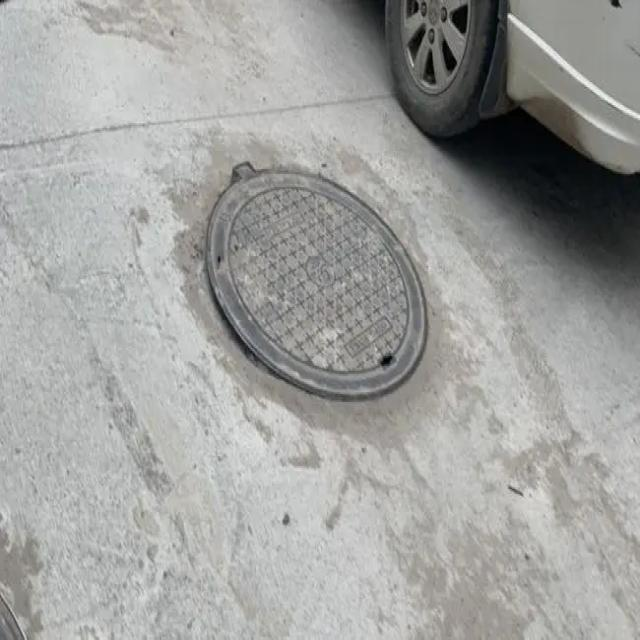manhole: (200, 163, 433, 405)
